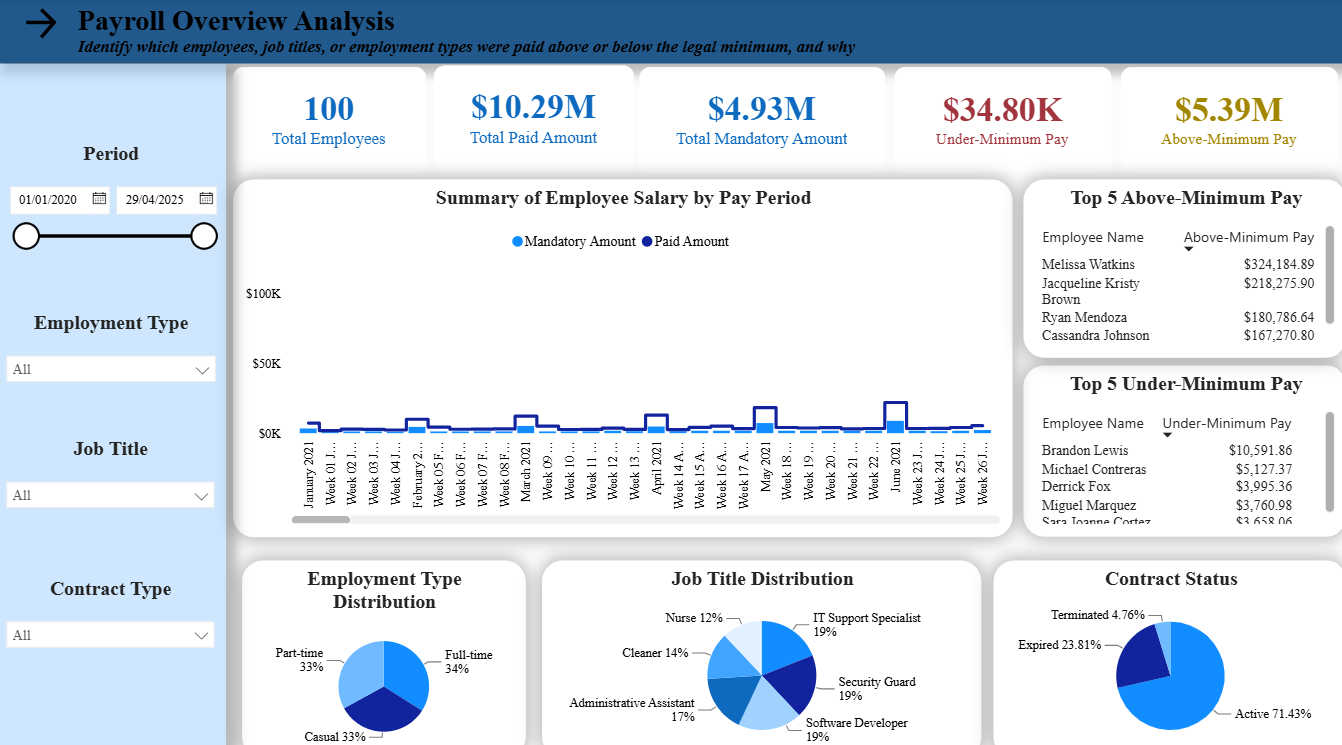

The dashboard page shown, as its layout file describes it:
{"tool":"powerbi","page":{"name":"Payroll Overview","canvas":[1280,720],"ordinal":0},"visuals":[{"type":"shape","box":[0,0,1280,62.2],"z":0},{"type":"textbox","box":[72.4,0,392,48.3],"z":1000},{"type":"cardVisual","fields":{"Data":["measured_table.Total_underpayment"]},"box":[851.1,65.2,205.2,100],"z":2000},{"type":"cardVisual","fields":{"Data":["measured_table.Total_overpayment"]},"box":[1065,65.2,205.2,100],"z":3000},{"type":"cardVisual","fields":{"Data":["measured_table.Total_Employees"]},"box":[224.7,65.2,182.9,100],"z":4000},{"type":"cardVisual","fields":{"Data":["measured_table.Paid_amount"]},"box":[414.3,64.2,189.7,100],"z":5000},{"type":"cardVisual","fields":{"Data":["measured_table.Mandatory_amount"]},"box":[608.9,65.2,232.5,100],"z":6000},{"type":"pieChart","title":"Employment Type Distribution","fields":{"Category":["dim_employees.Current_employment_type"],"Y":["measured_table.Employment_count"]},"box":[232.5,533,268.4,186.7],"z":7000},{"type":"pieChart","title":"Job Title Distribution","fields":{"Category":["dim_employees.Current_job_title"],"Y":["measured_table.Employment_count"]},"box":[517.4,533,416.3,186.7],"z":8000},{"type":"tableEx","title":"Top 5 Under-Minimum Pay","fields":{"Values":["dim_employees.Employee_Full_Name","measured_table.Total_underpayment"]},"box":[972.8,347.9,306.7,161.9],"z":9000},{"type":"lineStackedColumnComboChart","title":"Summary of Employee Salary by Pay Period","fields":{"Category":["dim_pay_period.pay_period_label"],"Y":["measured_table.Mandatory_amount"],"Y2":["measured_table.Paid_amount"]},"box":[224.7,171.2,738.2,338.5],"z":10000},{"type":"pieChart","title":"Contract Status","fields":{"Category":["dim_contracts.contract_status"],"Y":["measured_table.Total_Contracts"]},"box":[944.4,532.5,335.1,187.5],"z":11000},{"type":"shape","box":[0,62.2,217.9,657.5],"z":12000},{"type":"slicer","title":"Period","fields":{"Values":["dim_dates.date"]},"box":[0,136.3,217.9,119.6],"z":13000},{"type":"slicer","title":"Employment Type","fields":{"Values":["dim_employees.Current_employment_type"]},"box":[0,296.8,217.9,93.4],"z":14000},{"type":"slicer","title":"Job Title","fields":{"Values":["dim_employees.Current_job_title"]},"box":[0,416.1,216.9,93.4],"z":15000},{"type":"slicer","title":"Contract Type","fields":{"Values":["dim_employees.Current_contract_type"]},"box":[0,548.2,216.9,93.4],"z":16000},{"type":"tableEx","title":"Top 5 Above-Minimum Pay","fields":{"Values":["dim_employees.Employee_Full_Name","measured_table.Total_overpayment"]},"box":[972.8,171.8,306.7,169],"z":17000},{"type":"actionButton","box":[22.7,4.3,38.3,39.8],"z":18000},{"type":"textbox","box":[72.4,31.2,819.4,54],"z":19000}]}

Visuals, with their boxes in screenshot pixels (x1, y1, x2, y2), scaled from the page's 1280x720 canvas onto the 1342x745 screenshot:
shape: Rect(0, 0, 1341, 64)
textbox: Rect(76, 0, 487, 50)
cardVisual - measured_table.Total_underpayment: Rect(892, 67, 1107, 171)
cardVisual - measured_table.Total_overpayment: Rect(1117, 67, 1332, 171)
cardVisual - measured_table.Total_Employees: Rect(236, 67, 427, 171)
cardVisual - measured_table.Paid_amount: Rect(434, 66, 633, 170)
cardVisual - measured_table.Mandatory_amount: Rect(638, 67, 882, 171)
"Employment Type Distribution" pieChart: Rect(244, 552, 525, 744)
"Job Title Distribution" pieChart: Rect(542, 552, 979, 744)
"Top 5 Under-Minimum Pay" tableEx: Rect(1020, 360, 1341, 528)
"Summary of Employee Salary by Pay Period" lineStackedColumnComboChart: Rect(236, 177, 1010, 527)
"Contract Status" pieChart: Rect(990, 551, 1341, 744)
shape: Rect(0, 64, 228, 744)
"Period" slicer: Rect(0, 141, 228, 265)
"Employment Type" slicer: Rect(0, 307, 228, 404)
"Job Title" slicer: Rect(0, 431, 227, 527)
"Contract Type" slicer: Rect(0, 567, 227, 664)
"Top 5 Above-Minimum Pay" tableEx: Rect(1020, 178, 1341, 353)
actionButton: Rect(24, 4, 64, 46)
textbox: Rect(76, 32, 935, 88)
